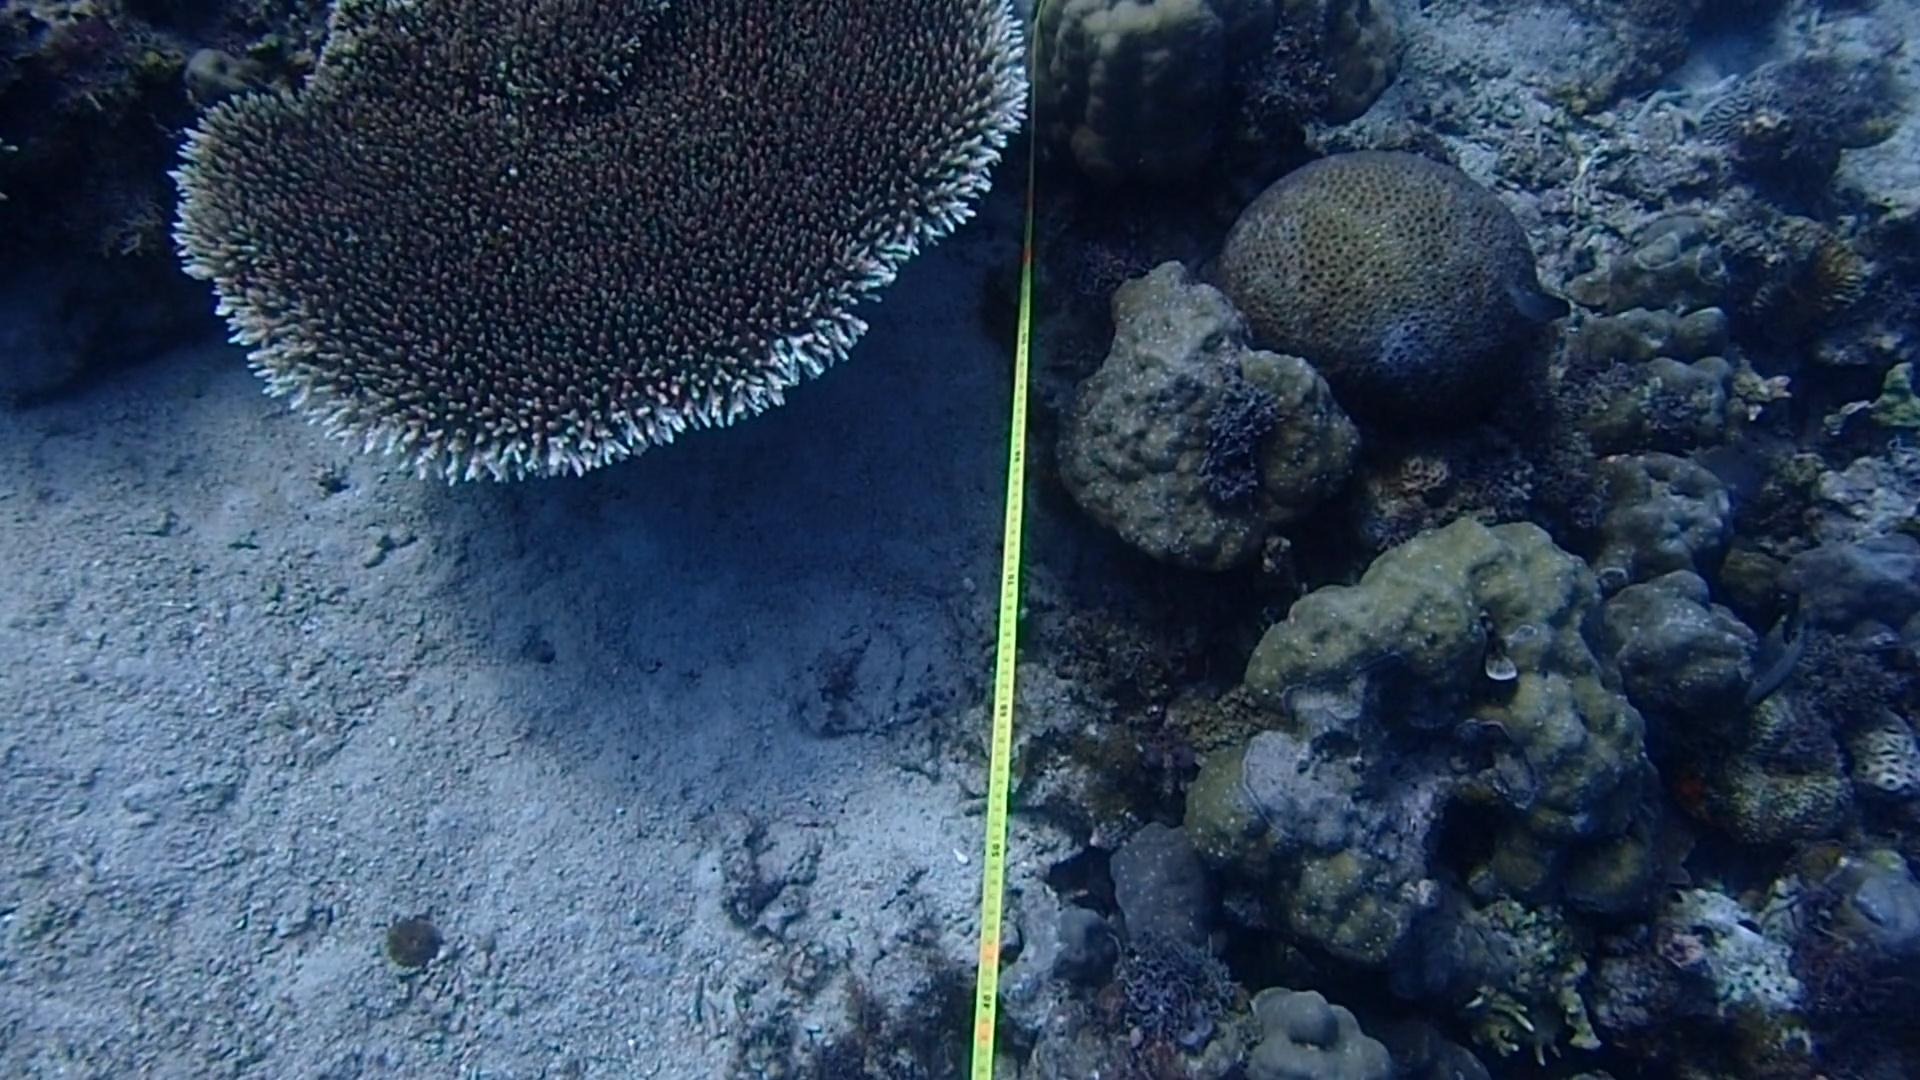Light Fish: (1739, 611, 1824, 721), (1499, 264, 1576, 339)
